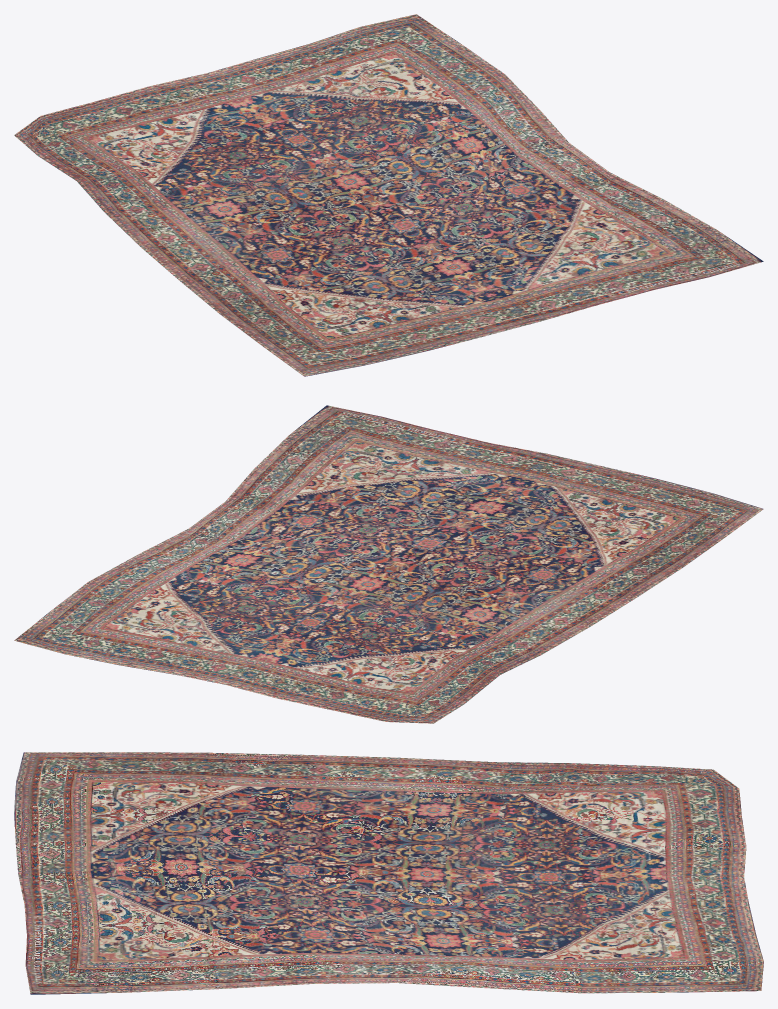
Rendered from carpet.fbx.
The picture shows the model from 3 angles, top to bottom: view 1: azimuth 30°, elevation 25°; view 2: azimuth 150°, elevation 25°; view 3: azimuth 270°, elevation 25°; orthographic projection. The views are drawn at different scales.
Parts seen in each view (by area): view 1: Antique_Late_19th_Century_Ziegler_Sultanabad_West_Central_Pe; view 2: Antique_Late_19th_Century_Ziegler_Sultanabad_West_Central_Pe; view 3: Antique_Late_19th_Century_Ziegler_Sultanabad_West_Central_Pe.
Boxes of the visible parts, box(x1,y1,x2,y2) form: Antique_Late_19th_Century_Ziegler_Sultanabad_West_Central_Pe: box(14, 14, 763, 376); Antique_Late_19th_Century_Ziegler_Sultanabad_West_Central_Pe: box(14, 405, 763, 723); Antique_Late_19th_Century_Ziegler_Sultanabad_West_Central_Pe: box(14, 752, 763, 994).
Size of the model in its own units: 77.07 by 0.6727 by 101.
